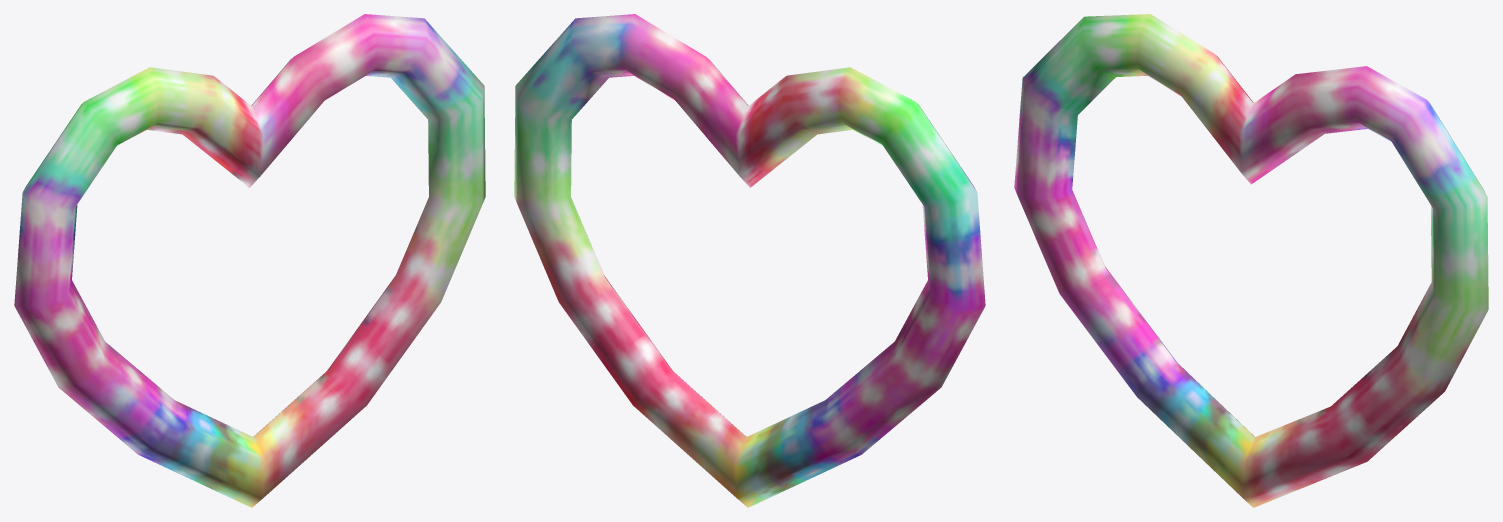
Rendered from furni_0200154.FBX.
3 views of the same model, side by side, from view 1: azimuth 30°, elevation 25°; view 2: azimuth 150°, elevation 25°; view 3: azimuth 330°, elevation 25° (orthographic).
Visible parts, largest first — view 1: furni_0200154; view 2: furni_0200154; view 3: furni_0200154.
Part boxes in pixels (x1,y1,x2,y2): furni_0200154: [14, 14, 485, 507]; furni_0200154: [514, 14, 985, 507]; furni_0200154: [1014, 14, 1488, 507].
Bounding box in the file's own units: 67.36 × 63.7 × 5.4.
1 material, 1 textured.
